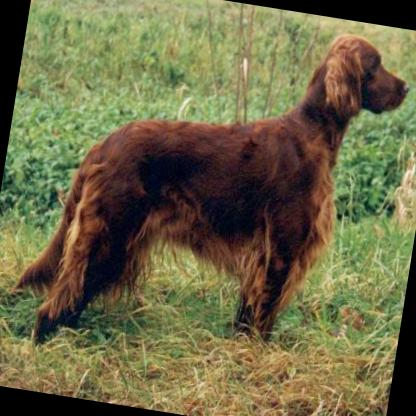Irish_setter: (3, 0, 415, 394)
